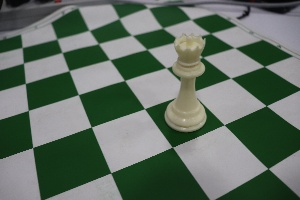white_queen: (156, 24, 213, 138)
